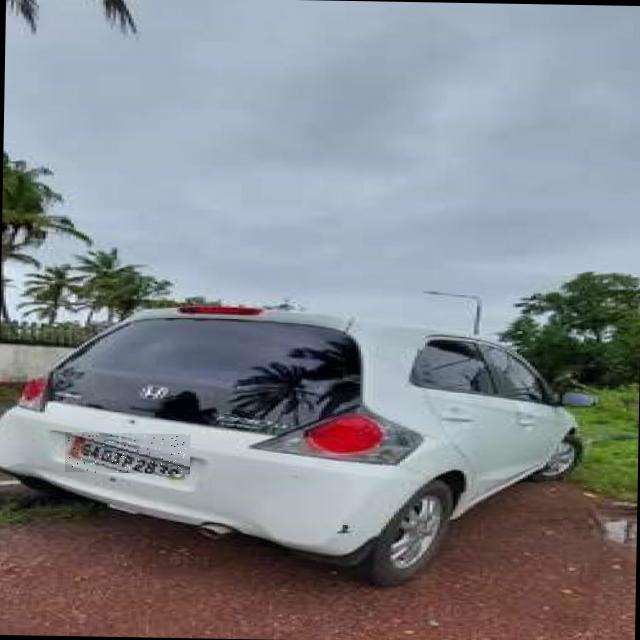Plate: (65, 433, 191, 475)
